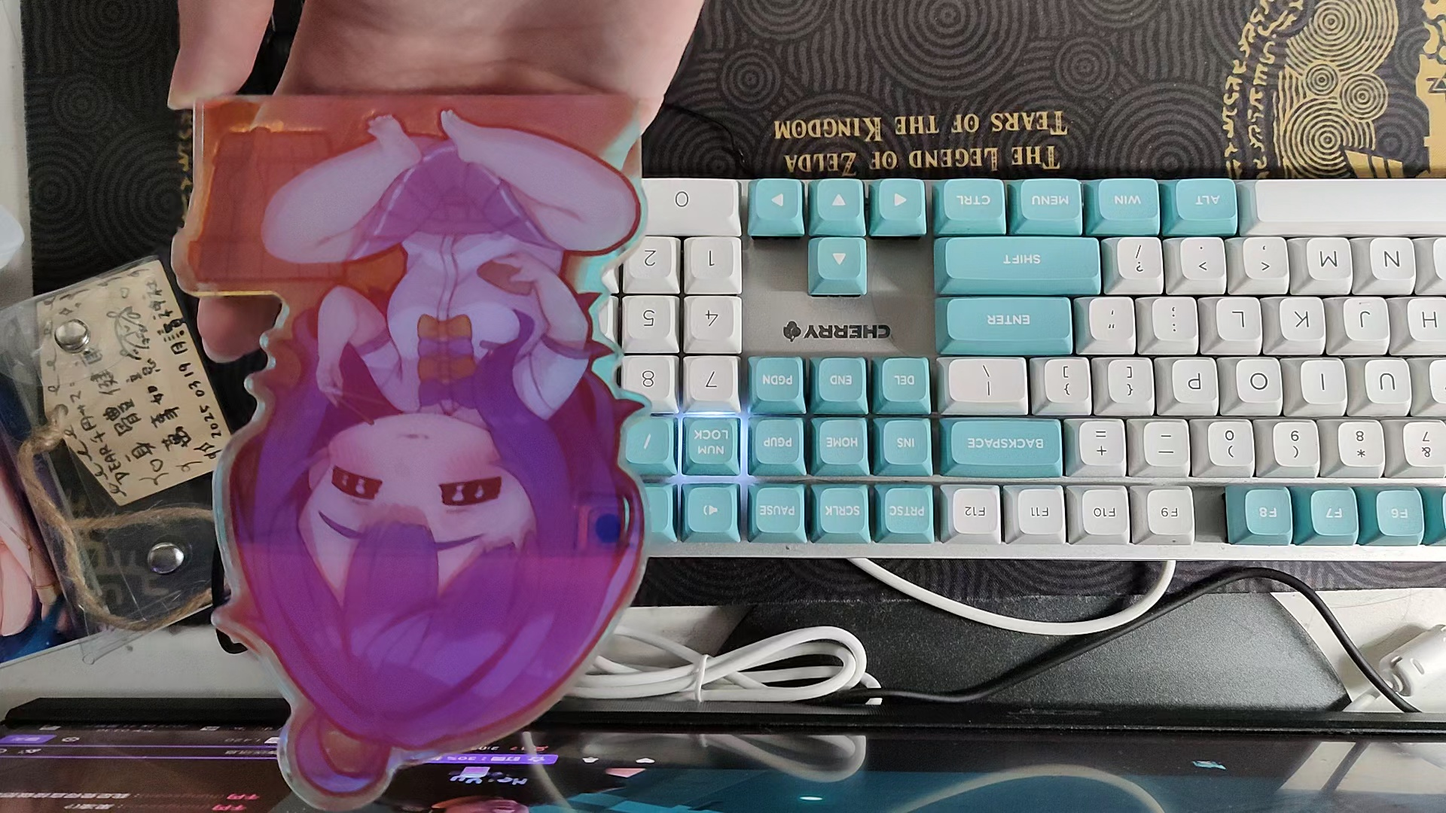Yanami-anna: (170, 88, 657, 813)
